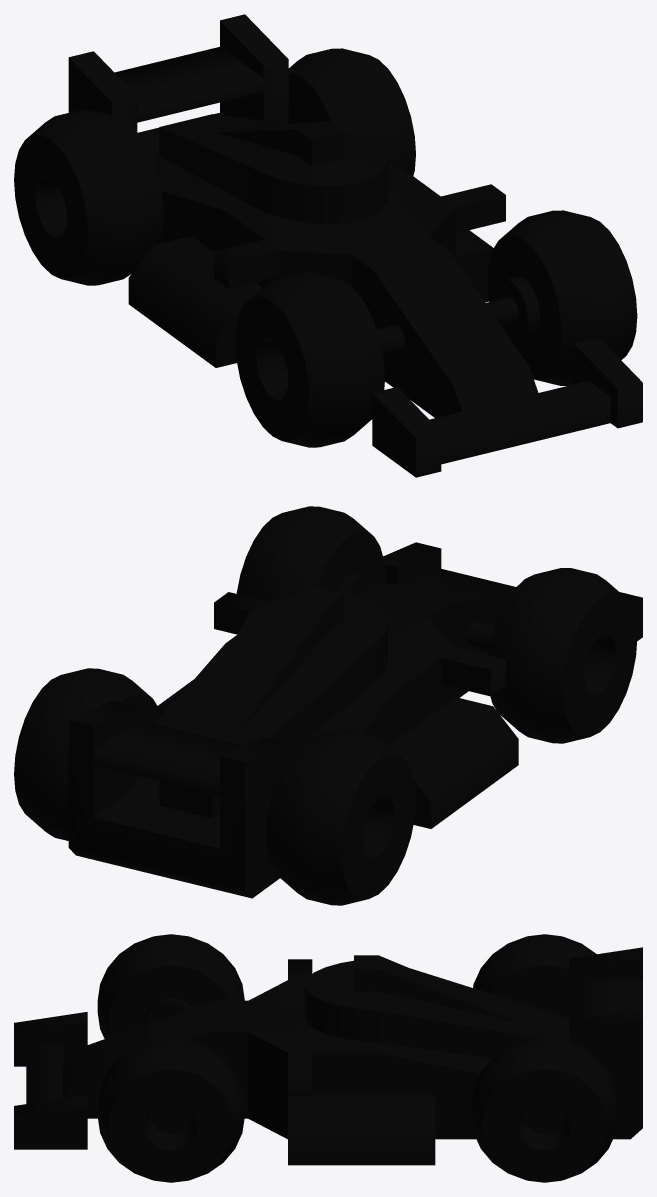
The model's file is race.glb.
3 renders of one model, top to bottom at view 1: azimuth 30°, elevation 25°; view 2: azimuth 150°, elevation 25°; view 3: azimuth 270°, elevation 25°, orthographic. The views are drawn at different scales.
Visible parts, largest first — view 1: body, wheel-front-right (×2), wheel-front-left (×2); view 2: body, wheel-front-right (×2), wheel-front-left (×2); view 3: body, wheel-front-left (×2), wheel-front-right (×2).
Part boxes in pixels (x1,y1,x2,y2): body: (68, 14, 642, 477); wheel-front-right (×2): (14, 110, 385, 447); wheel-front-left (×2): (288, 48, 637, 385); body: (68, 542, 642, 898); wheel-front-right (×2): (266, 568, 637, 905); wheel-front-left (×2): (14, 506, 385, 840); body: (14, 947, 642, 1165); wheel-front-left (×2): (97, 1038, 618, 1182); wheel-front-right (×2): (97, 934, 596, 1038).
Size of the model in its own units: 1.3 by 0.7325 by 2.56.
1 material, 1 textured.
